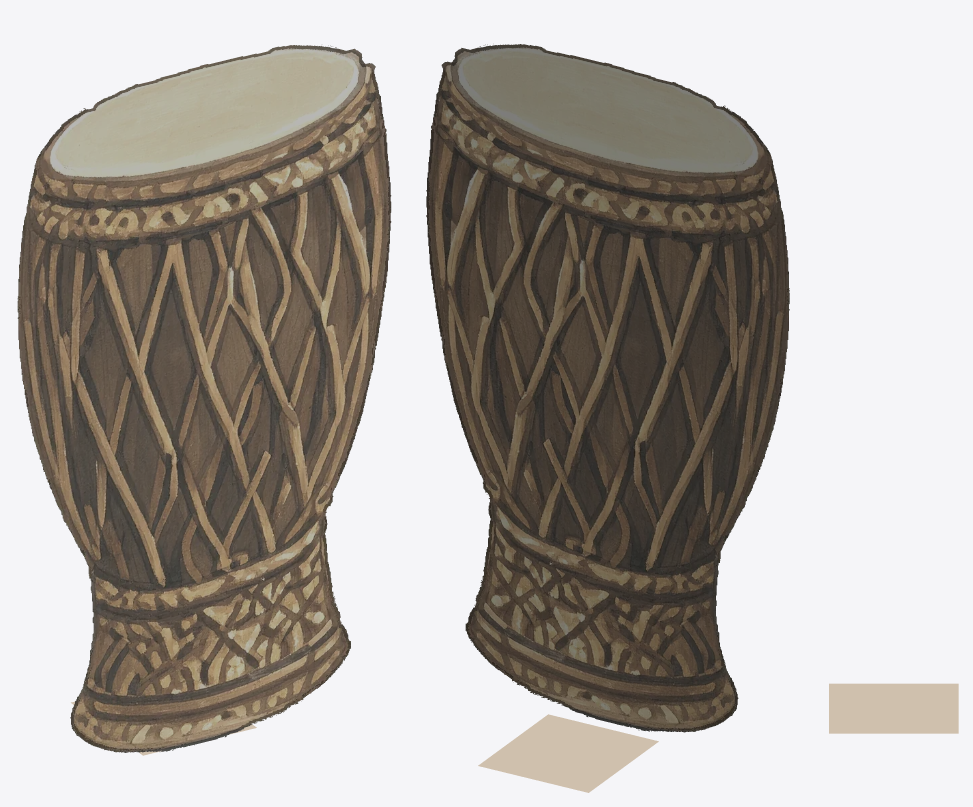
Rendered from toad-standee-long-drum.glb.
The picture shows the model from 3 angles, left to right: view 1: azimuth 30°, elevation 25°; view 2: azimuth 150°, elevation 25°; view 3: azimuth 270°, elevation 25°; orthographic projection. The views are drawn at different scales.
Parts seen in each view (by area): view 1: long-drum; view 2: long-drum; view 3: long-drum.
Part boxes in pixels (bbox=[...]): long-drum: bbox=[17, 45, 391, 755]; long-drum: bbox=[426, 44, 789, 792]; long-drum: bbox=[829, 683, 958, 733].
Size of the model in its own units: 0.1 by 0.1724 by 0.035.
1 material, 1 textured.
